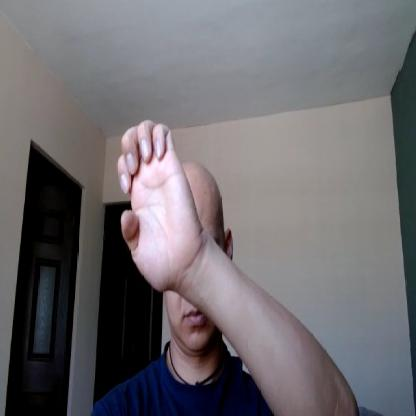E: (117, 120, 200, 293)
